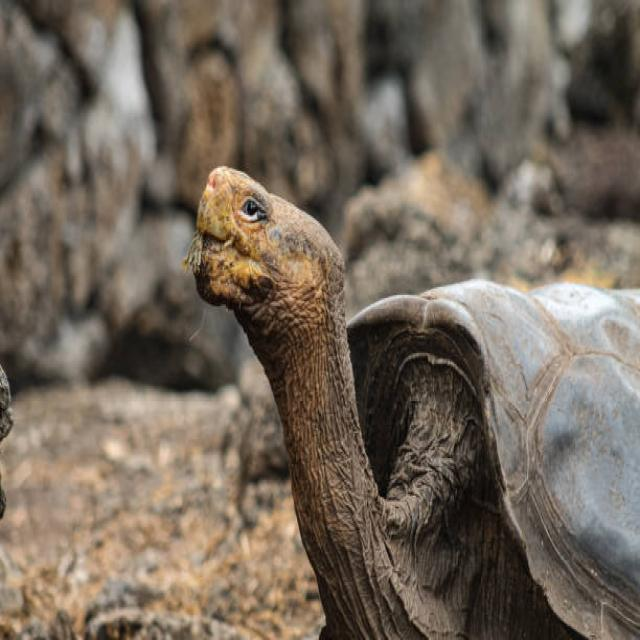tortoise: (321, 244, 640, 640), (178, 144, 382, 639)
